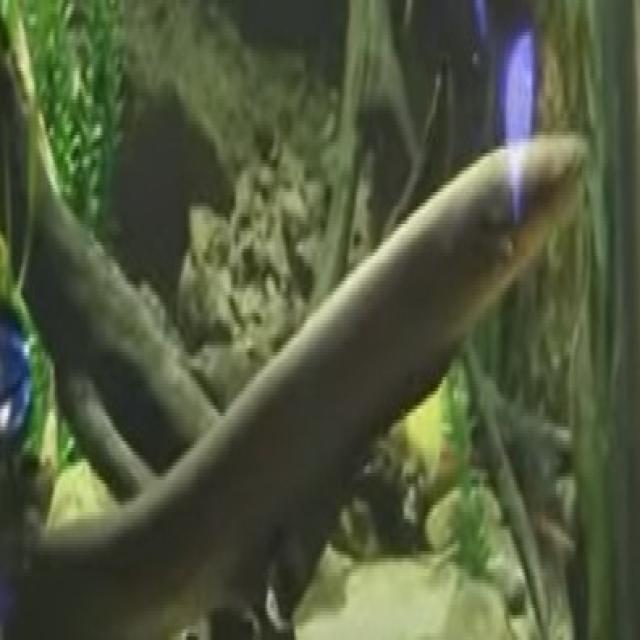Freshwater-Eel: (31, 88, 613, 640)
